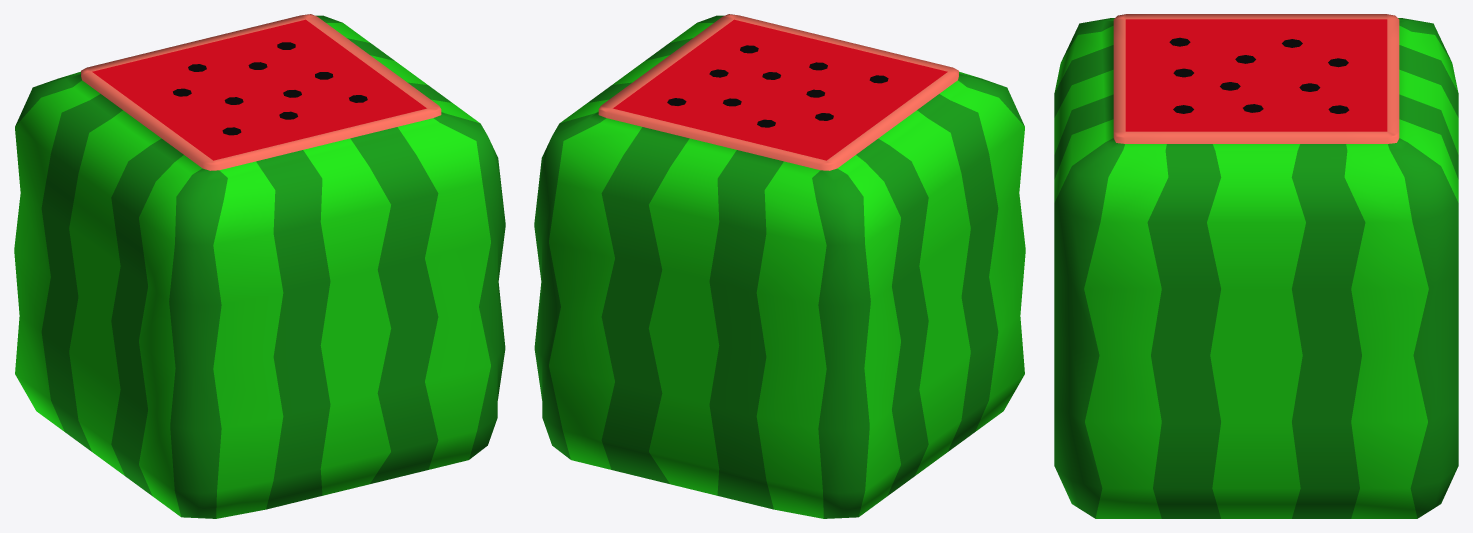
File: Karpuzv2.fbx
3 views of the same model, side by side, from view 1: azimuth 30°, elevation 25°; view 2: azimuth 150°, elevation 25°; view 3: azimuth 270°, elevation 25° (orthographic). The views are drawn at different scales.
Parts seen in each view (by area): view 1: Karpuzz, Circle; view 2: Karpuzz, Circle; view 3: Karpuzz, Circle.
Part boxes in pixels (x1,y1,x2,y2): Karpuzz: [14, 14, 505, 518]; Circle: [173, 42, 367, 135]; Karpuzz: [534, 14, 1025, 518]; Circle: [667, 45, 888, 127]; Karpuzz: [1054, 14, 1458, 518]; Circle: [1169, 37, 1349, 113].
Bounding box in the file's own units: 200 × 203 × 196.
